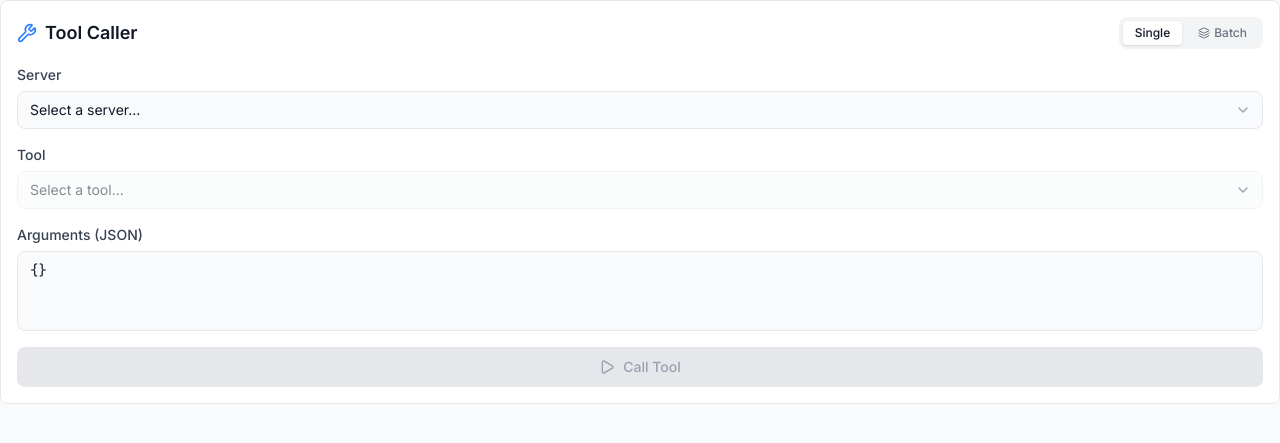
Scenario: MCPToolCaller › tool selection › shows tool description after selecting a tool
The image size is (1280, 443).
Select "Test Server (2 tools)" in the dropdown below "Server" at (640, 110), box [17,91,1263,129]
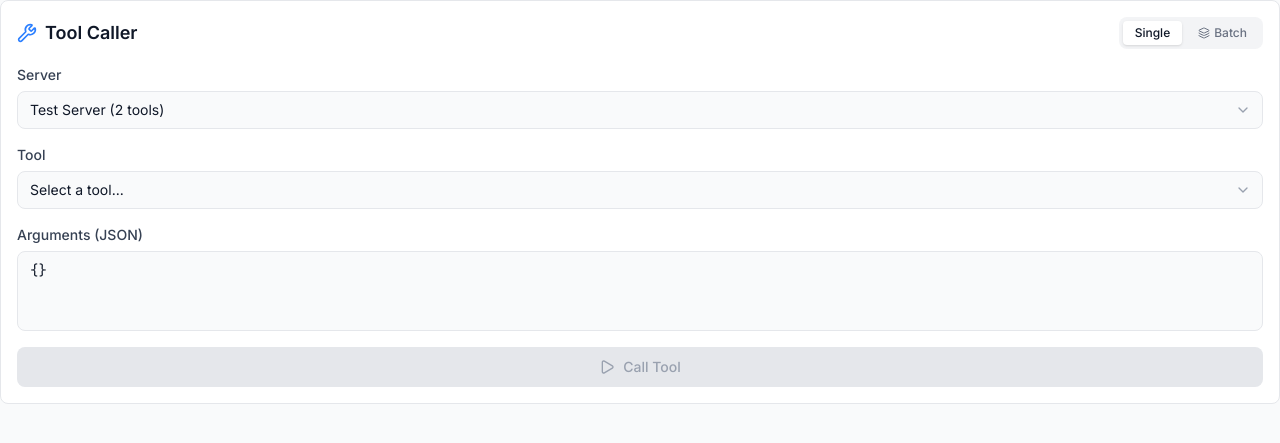
Select "read_file" in the 2nd dropdown at (640, 190), box [17,171,1263,209]
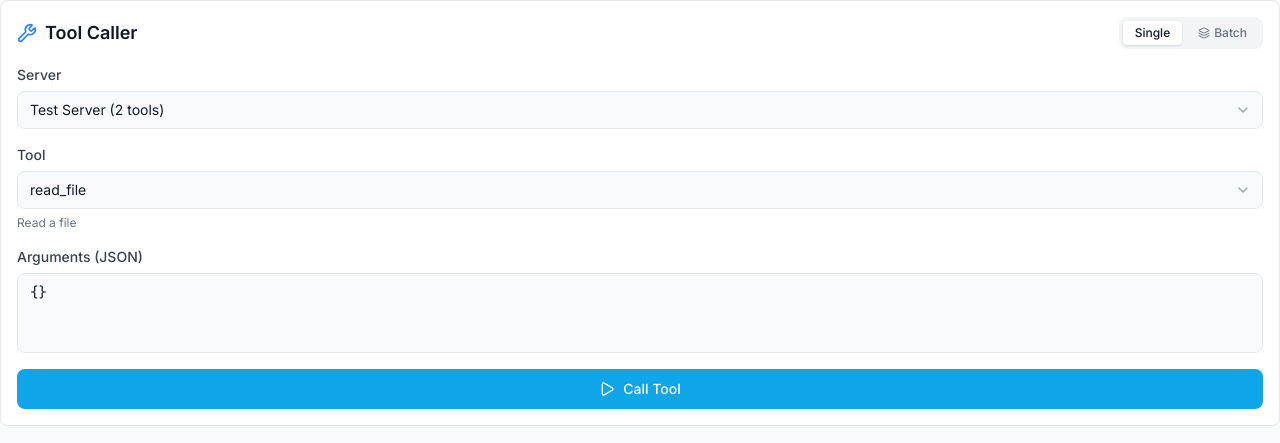
Expected: the text "Read a file" is shown, [17,215,76,230]
